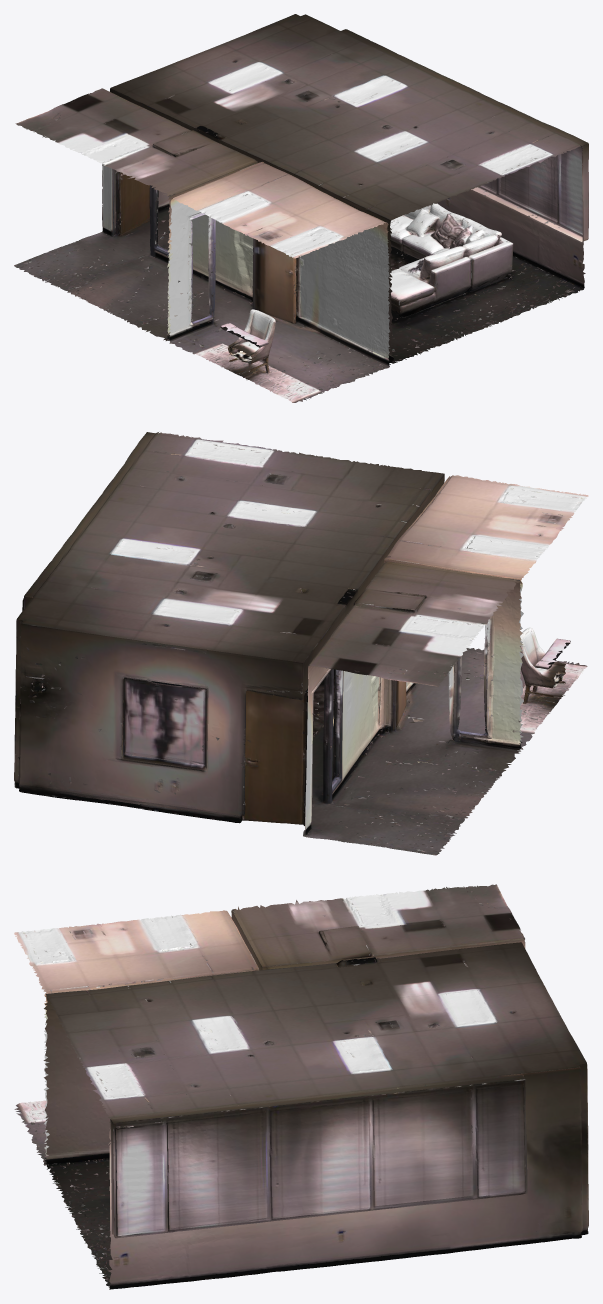
Rendered from apartment-move-out.glb.
The picture shows the model from 3 angles, top to bottom: view 1: azimuth 30°, elevation 25°; view 2: azimuth 150°, elevation 25°; view 3: azimuth 270°, elevation 25°; orthographic projection. The views are drawn at different scales.
Visible parts, largest first — view 1: ReplicaApartmentRoom; view 2: ReplicaApartmentRoom; view 3: ReplicaApartmentRoom.
Part boxes in pixels (box(x1,y1,x2,y2)): ReplicaApartmentRoom: box(14, 14, 588, 402); ReplicaApartmentRoom: box(14, 432, 588, 855); ReplicaApartmentRoom: box(14, 884, 588, 1289).
Size of the model in its own units: 8.16 by 2.9 by 8.31.
Materials: 2 (2 with a texture image).
